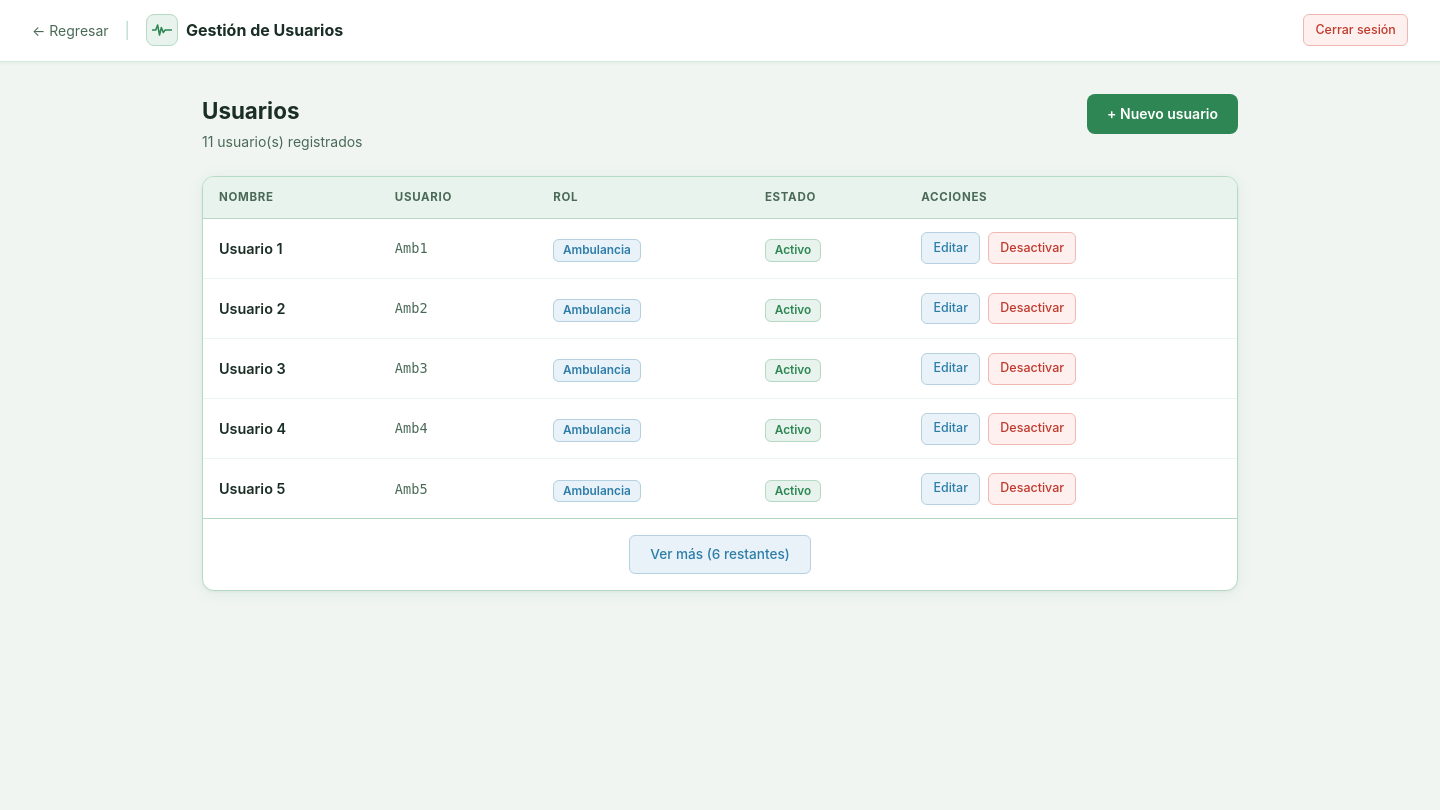
usuarios/page.js · acceso y listado › muestra 5 y "Ver más" carga de a 5 con el conteo restante
This screenshot has width=1440, height=810.
Expected: the number of rows is 6, [203, 177, 1237, 218]; [203, 218, 1237, 278]; [203, 278, 1237, 338]; [203, 338, 1237, 399]; [203, 399, 1237, 459]; [203, 459, 1237, 518]
Click the button "Ver más (6 restantes)".
click(720, 554)  # box [629, 535, 811, 574]
(page scrolled)
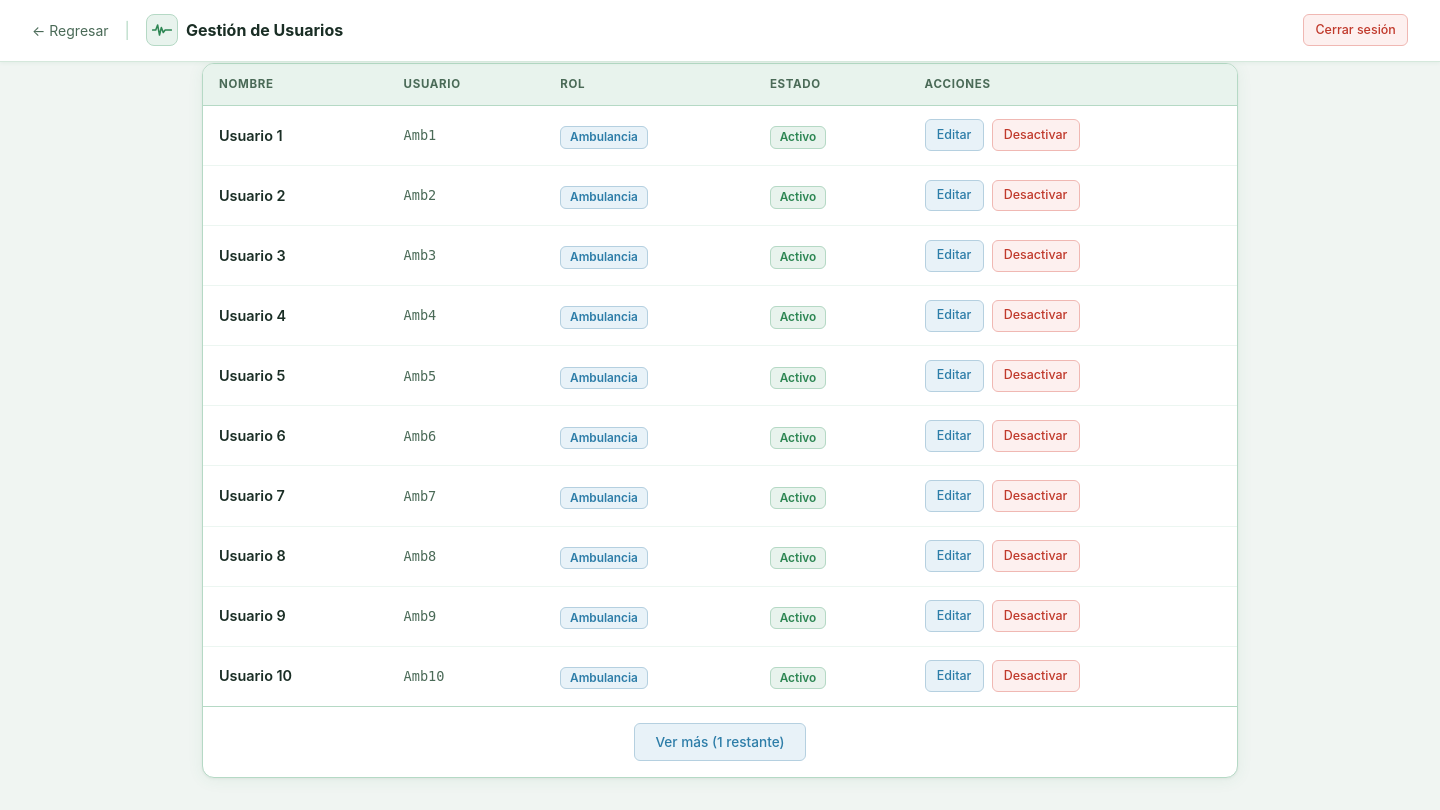
Now the number of rows is 11
Click the button "Ver más (1 restante)".
click(720, 742)  # box [634, 723, 806, 761]
(page scrolled)
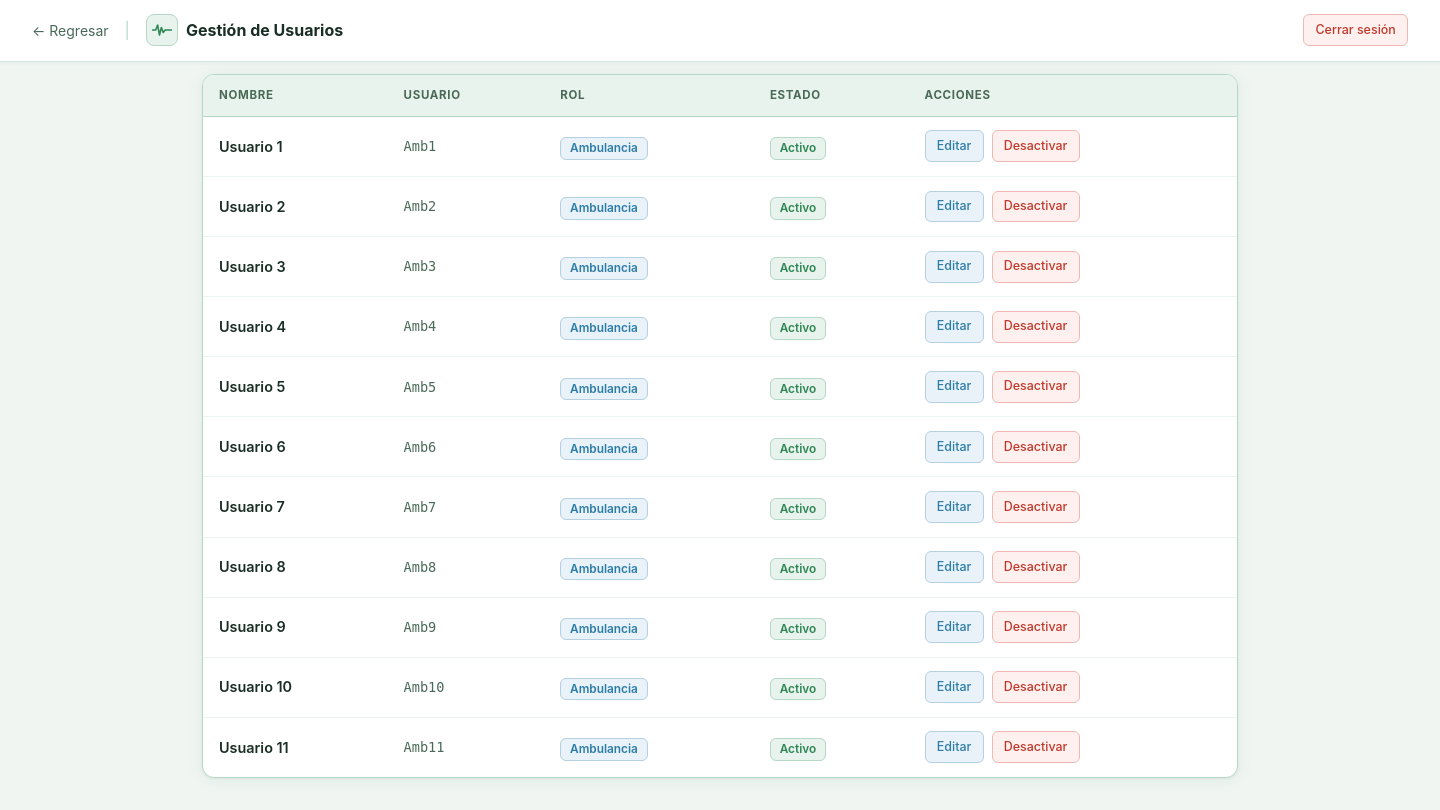
Now the number of rows is 12
Now the button "Ver más" is gone
